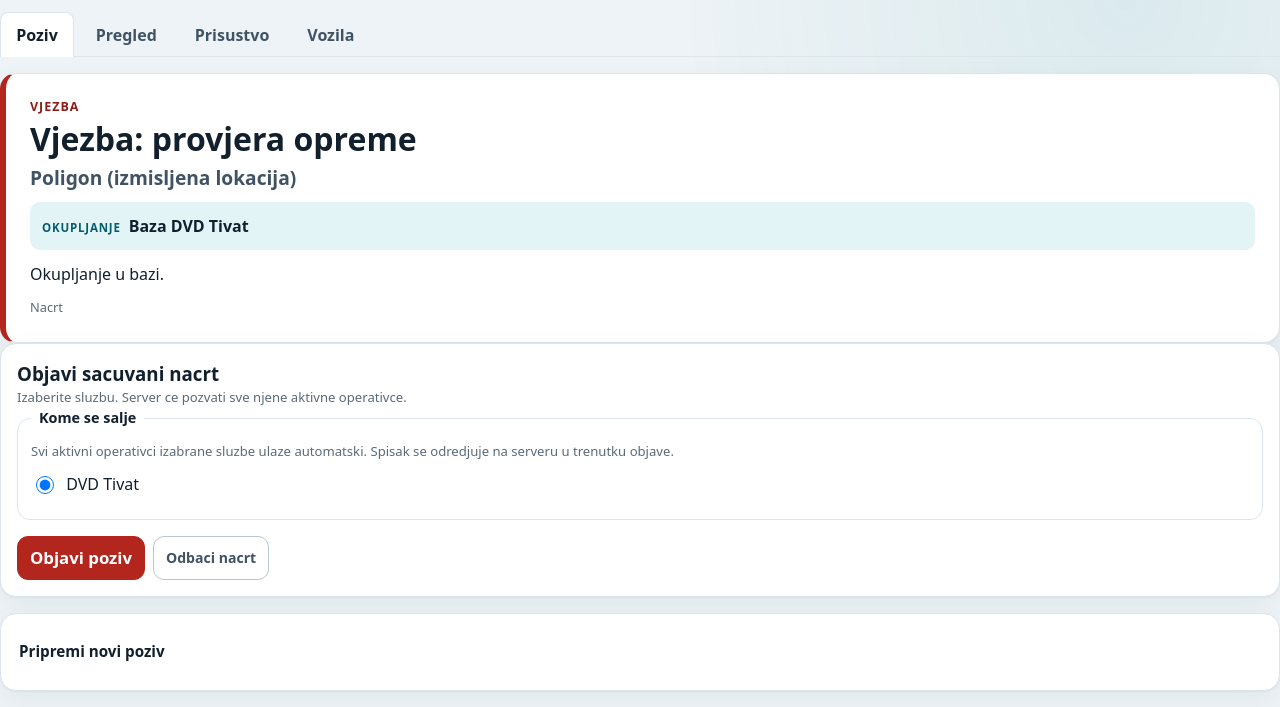
it: the commander console renders on real data › automatic recipients follow server eligibility › blocks zero known recipients at confirmation
Step 1. Click the button with test id "publish" → (81,558), box [17,536,145,580]
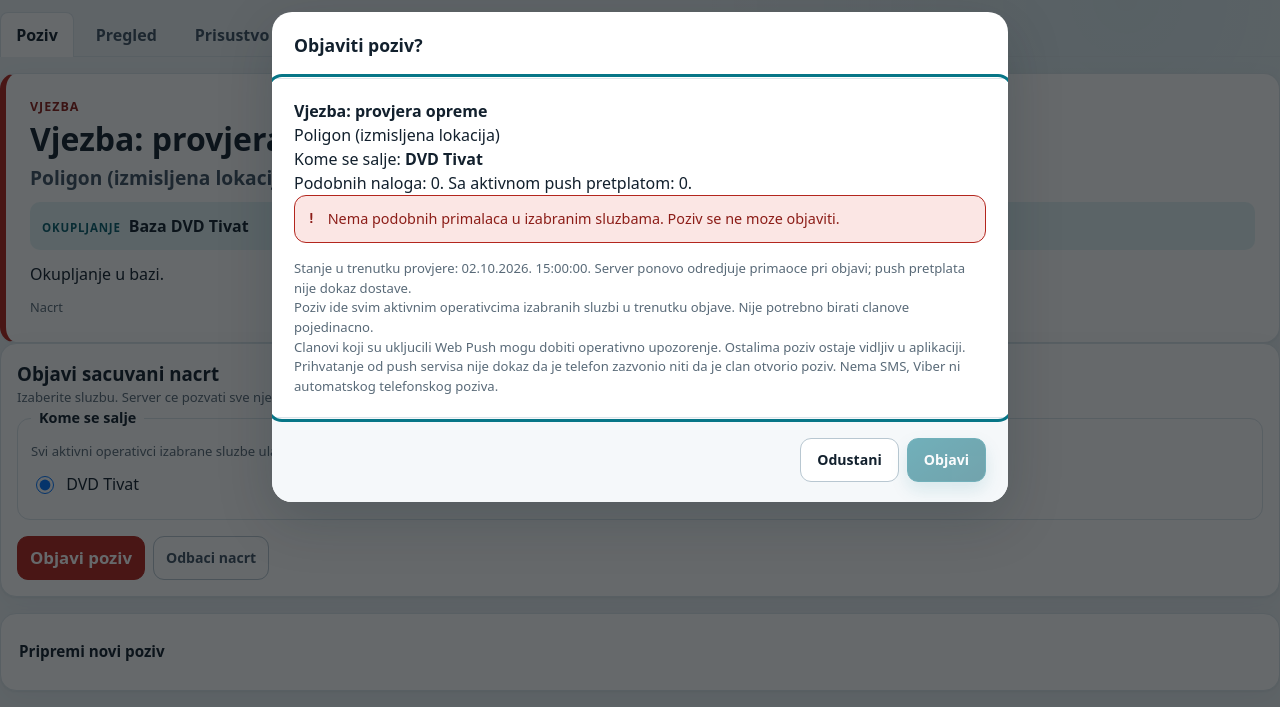
Check: the element with test id "readiness-empty" is shown, box [294,195,986,243]
Check: the button "Objavi" is disabled, box [907,438,986,482]
